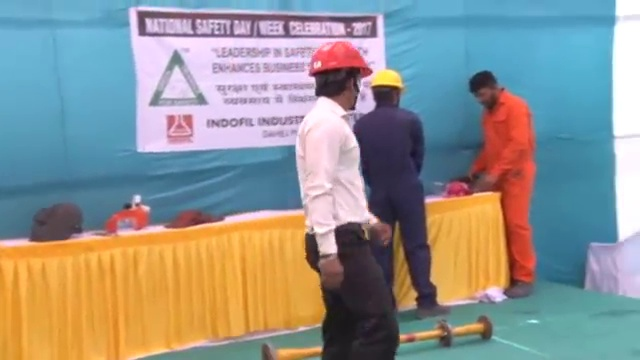helmet: (306, 37, 375, 79), (370, 64, 407, 91)
helmet_off: (466, 67, 505, 112)
helmet_on: (303, 34, 375, 115), (369, 61, 408, 111)
person: (295, 32, 400, 359), (354, 59, 450, 320), (466, 65, 541, 300)
